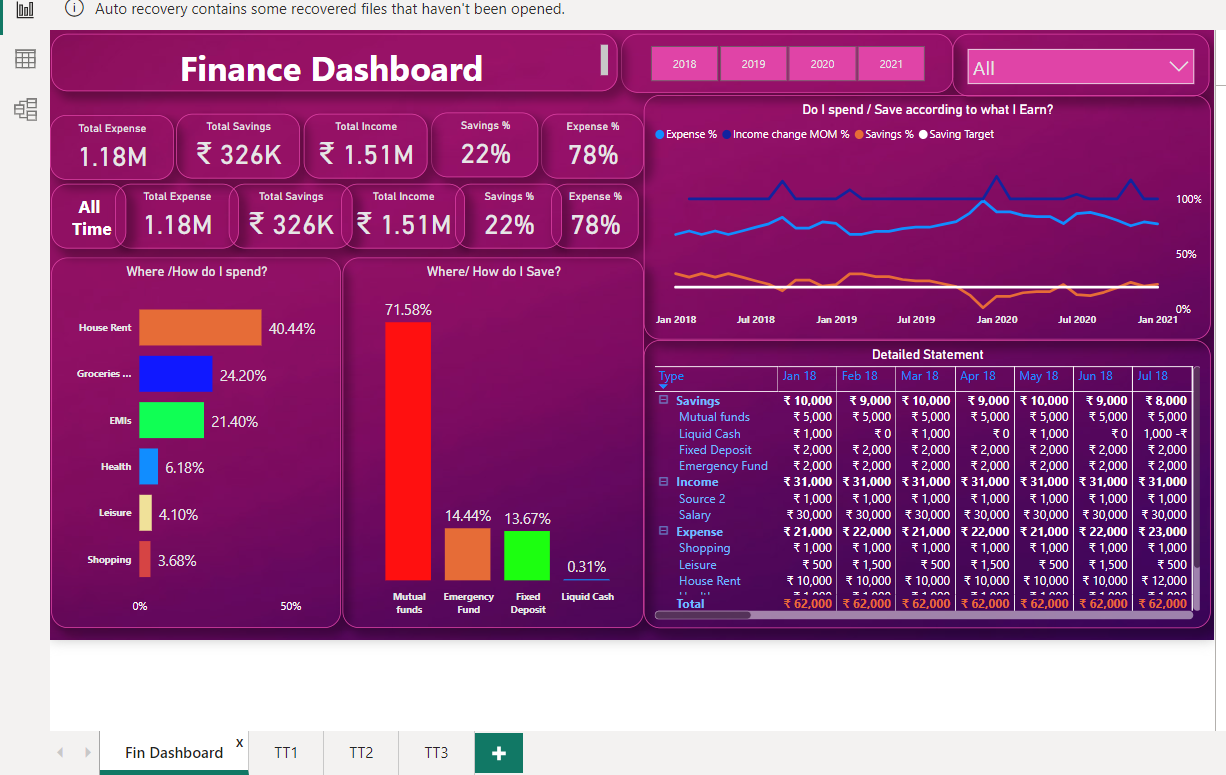

The dashboard page shown, as its layout file describes it:
{"tool":"powerbi","page":{"name":"Fin Dashboard","canvas":[1280,720],"ordinal":0},"visuals":[{"type":"card","title":"Expense %","fields":{"Values":["Key measure.Expense %"]},"box":[540.2,141.2,112.4,71.3],"z":0},{"type":"card","title":"Total Expense","fields":{"Values":["Key measure.Total Expense"]},"box":[0,142.6,135.7,71.3],"z":1000},{"type":"card","title":"Savings %","fields":{"Values":["Key measure.Savings %"]},"box":[419.5,139.8,117.9,71.3],"z":2000},{"type":"card","title":"Total Savings","fields":{"Values":["Key measure.Total Savings"]},"box":[138.5,141.2,135.7,71.3],"z":2001},{"type":"card","title":"Total Income","fields":{"Values":["Key measure.Total Income"]},"box":[278.3,141.2,135.7,71.3],"z":2002},{"type":"slicer","fields":{"Values":["FinData.Year"]},"box":[627.9,53.5,364.7,64.4],"z":2003},{"type":"slicer","fields":{"Values":["FinData.Date"]},"box":[992.6,53.5,282.4,68.6],"z":2004},{"type":"textbox","box":[1.4,53.5,622.5,63.1],"z":2005},{"type":"barChart","title":"Where /How do I spend? ","fields":{"Category":["FinData.Component"],"Y":["Key measure.Total Expense"]},"box":[1.4,300,318.6,407.1],"z":2006},{"type":"card","title":"Total Expense","fields":{"Values":["Key measure.Total Expense"]},"box":[72.1,218,135.7,71.3],"z":2007},{"type":"card","title":"Total Savings","fields":{"Values":["Key measure.Total Savings"]},"box":[196.3,218,135.7,71.3],"z":2008},{"type":"card","title":"Total Income","fields":{"Values":["Key measure.Total Income"]},"box":[320.6,218,135.7,71.3],"z":2009},{"type":"card","title":"Savings %","fields":{"Values":["Key measure.Savings %"]},"box":[444.8,218,117.9,71.3],"z":2010},{"type":"card","title":"Expense %","fields":{"Values":["Key measure.Expense %"]},"box":[551.2,218,96,71.3],"z":2011},{"type":"textbox","box":[1.4,218,82.3,71.3],"z":2012},{"type":"columnChart","title":"Where/ How do I Save?","fields":{"Category":["FinData.Component"],"Y":["Divide(Key measure.Total Savings, ScopedEval(Key measure.Total Savings, []))"]},"box":[321.4,300,331.4,407.1],"z":2013},{"type":"lineChart","title":"Do I spend / Save  according to what  I Earn?","fields":{"Category":["FinData.Date"],"Y2":["Key measure.Expense %","Key measure.Income change MOM %","Key measure.Savings %","Key measure.Saving Target"]},"box":[652.9,121.4,622.9,268.6],"z":2014},{"type":"pivotTable","title":"Detailed Statement","fields":{"Values":["Sum(FinData.Value)"],"Columns":["FinData.Year","FinData.Date"],"Rows":["FinData.Type","FinData.Component"]},"box":[652.9,390,622.9,317.1],"z":2016}]}

Visuals, with their boxes on the page's 1280x720 design canvas (x1, y1, x2, y2). These are canvas units, not pixel positions in the 1226x775 screenshot, which may show the page scaled, cropped or inside an application window:
"Expense %" card: [540, 141, 653, 212]
"Total Expense" card: [0, 143, 136, 214]
"Savings %" card: [420, 140, 537, 211]
"Total Savings" card: [138, 141, 274, 212]
"Total Income" card: [278, 141, 414, 212]
slicer - FinData.Year: [628, 54, 993, 118]
slicer - FinData.Date: [993, 54, 1275, 122]
textbox: [1, 54, 624, 117]
"Where /How do I spend? " barChart: [1, 300, 320, 707]
"Total Expense" card: [72, 218, 208, 289]
"Total Savings" card: [196, 218, 332, 289]
"Total Income" card: [321, 218, 456, 289]
"Savings %" card: [445, 218, 563, 289]
"Expense %" card: [551, 218, 647, 289]
textbox: [1, 218, 84, 289]
"Where/ How do I Save?" columnChart: [321, 300, 653, 707]
"Do I spend / Save  according to what  I Earn?" lineChart: [653, 121, 1276, 390]
"Detailed Statement" pivotTable: [653, 390, 1276, 707]
